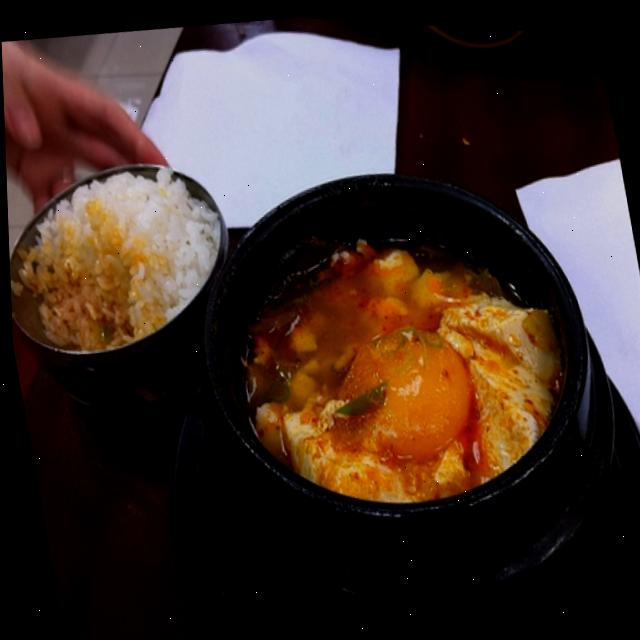汤锅炖物: (182, 131, 617, 594)
